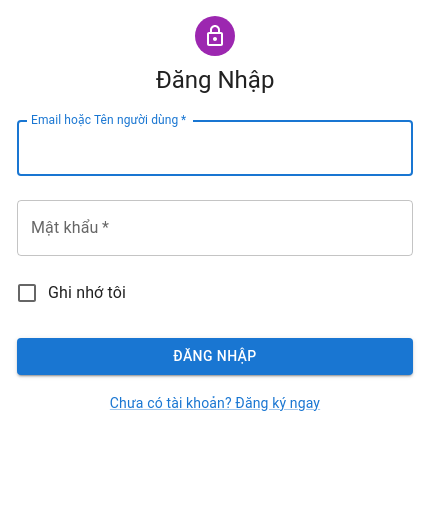
Test case: LoginPage Component › shows default error message in Alert if context login fails without a message
Type "test@example.com" into the field labelled "Email hoặc Tên người dùng *" at [215, 148], box left=17, top=120, right=413, bottom=176
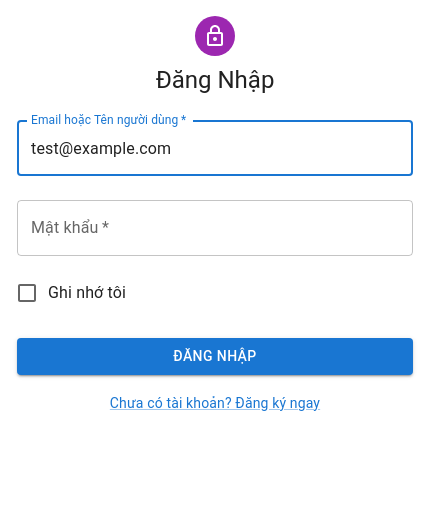
Type "password123" into the password field labelled "Mật khẩu *" at [215, 228], box left=17, top=200, right=413, bottom=256
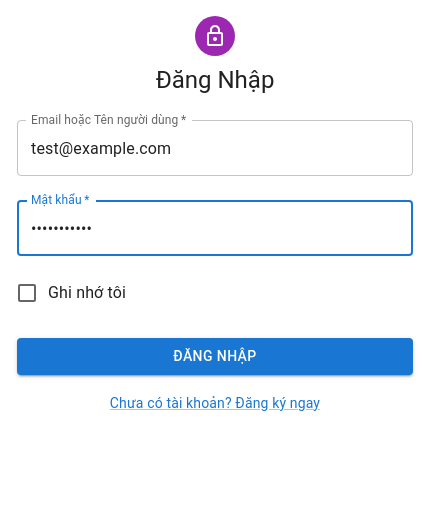
Click the button "Đăng Nhập" at [215, 356], box left=17, top=338, right=413, bottom=374
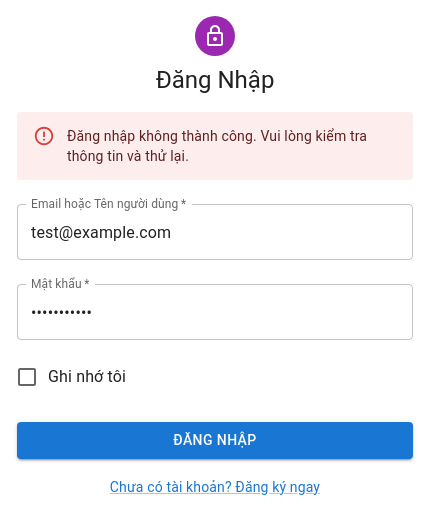
Expected: the message reads "Đăng nhập không thành công. Vui lòng kiểm tra thông tin và thử lại.", left=67, top=128, right=367, bottom=164
